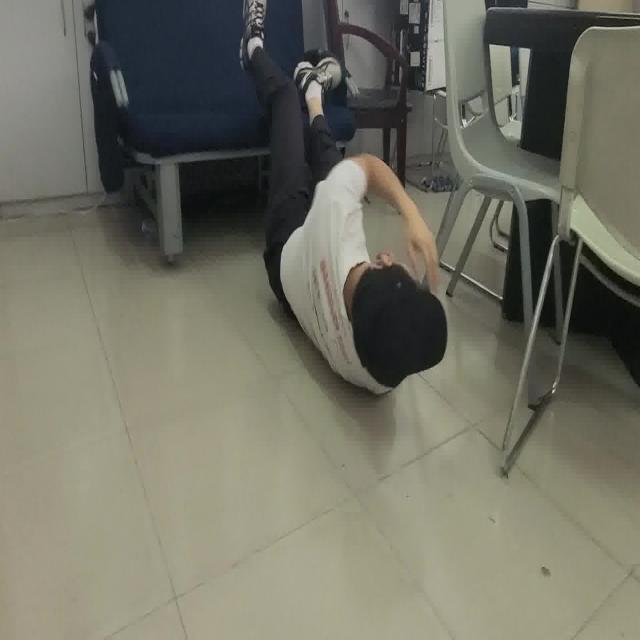fall: (240, 0, 450, 400)
